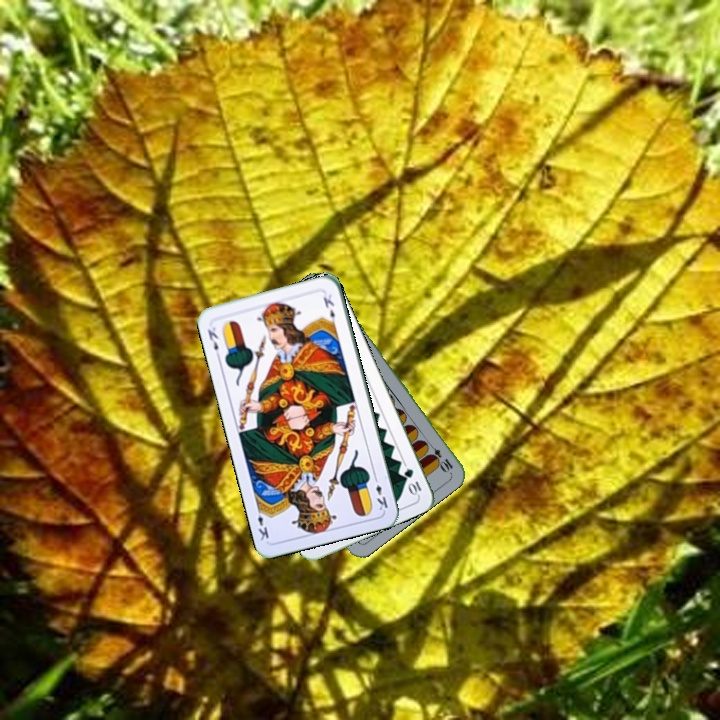E10: (423, 439, 455, 475)
EK: (370, 472, 390, 513), (203, 323, 223, 360)
G10: (400, 464, 424, 498)
